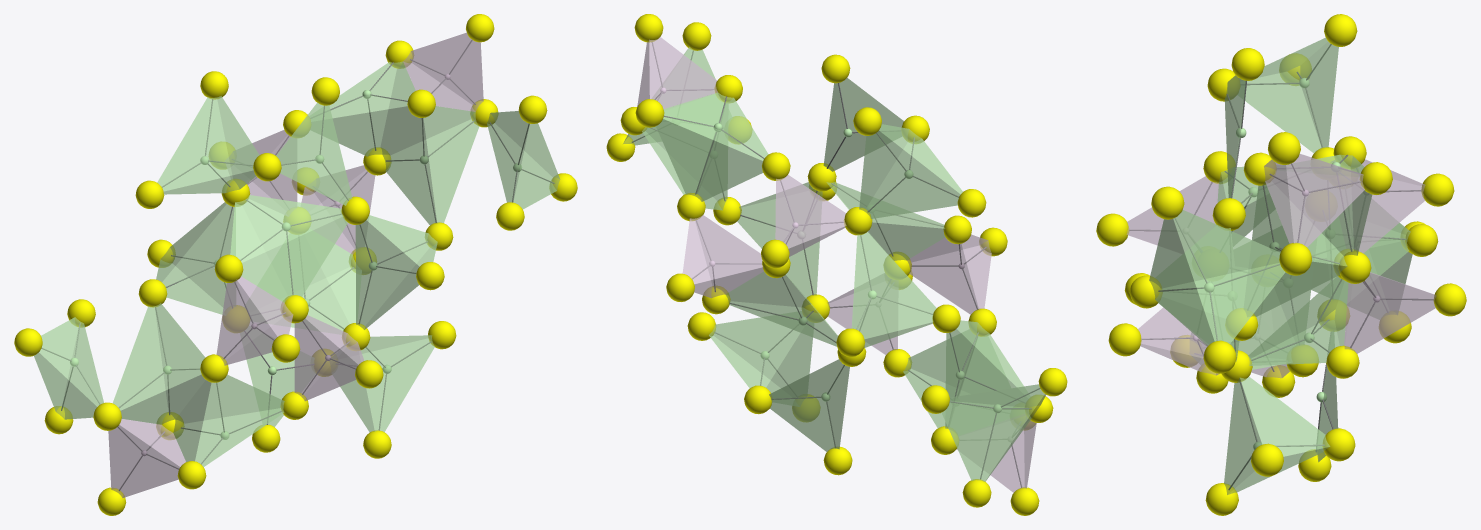
3 renders of one model, left to right at view 1: azimuth 30°, elevation 25°; view 2: azimuth 150°, elevation 25°; view 3: azimuth 270°, elevation 25°, orthographic. The views are drawn at different scales.
Parts seen in each view (by area): view 1: Shape_IndexedFaceSet.024, atom10_IndexedFaceSet, Shape_IndexedFaceSet, Shape_Cylinder, atom14_IndexedFaceSet; view 2: Shape_IndexedFaceSet.024, atom10_IndexedFaceSet, Shape_IndexedFaceSet, Shape_Cylinder, atom14_IndexedFaceSet; view 3: Shape_IndexedFaceSet.024, atom10_IndexedFaceSet, Shape_IndexedFaceSet, Shape_Cylinder, atom14_IndexedFaceSet.
Boxes of the visible parts, bbox=[...] form: Shape_IndexedFaceSet.024: bbox=[34, 61, 560, 466]; atom10_IndexedFaceSet: bbox=[14, 14, 577, 515]; Shape_IndexedFaceSet: bbox=[108, 32, 483, 497]; Shape_Cylinder: bbox=[41, 40, 554, 490]; atom14_IndexedFaceSet: bbox=[70, 90, 521, 439]; Shape_IndexedFaceSet.024: bbox=[623, 47, 1045, 481]; atom10_IndexedFaceSet: bbox=[606, 14, 1067, 515]; Shape_IndexedFaceSet: bbox=[637, 37, 1036, 492]; Shape_Cylinder: bbox=[632, 42, 1040, 487]; atom14_IndexedFaceSet: bbox=[713, 123, 1002, 413]; Shape_IndexedFaceSet.024: bbox=[1149, 37, 1412, 494]; atom10_IndexedFaceSet: bbox=[1096, 14, 1466, 515]; Shape_IndexedFaceSet: bbox=[1126, 154, 1436, 378]; Shape_Cylinder: bbox=[1129, 44, 1433, 489]; atom14_IndexedFaceSet: bbox=[1204, 78, 1340, 449].
Size of the model in its own units: 18.95 by 14.54 by 10.33.
